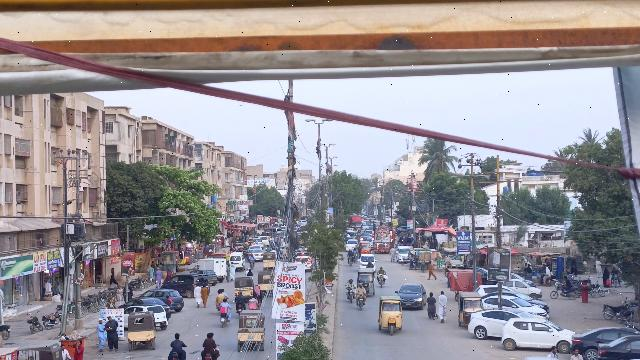Bike: (356, 293, 366, 311), (346, 287, 356, 304), (219, 311, 229, 328), (377, 273, 387, 289), (170, 351, 181, 360), (236, 303, 243, 315), (203, 352, 213, 360)
Car: (498, 316, 573, 352), (571, 326, 635, 355), (466, 308, 520, 339), (596, 333, 640, 360), (144, 286, 185, 313), (165, 273, 209, 298), (397, 281, 427, 311)
Person: (105, 315, 120, 352), (93, 316, 108, 353), (424, 291, 439, 321), (436, 291, 450, 323), (202, 330, 220, 353), (190, 281, 203, 308), (168, 333, 187, 351), (200, 281, 210, 308), (234, 291, 248, 304), (219, 297, 231, 312), (376, 266, 388, 277), (345, 279, 356, 290), (356, 283, 366, 295)
Rickshaw: (236, 308, 267, 353), (126, 311, 158, 351), (376, 294, 405, 336), (456, 291, 482, 329), (233, 274, 254, 301), (358, 269, 377, 298), (258, 269, 273, 297)
Truck: (198, 256, 227, 280)
